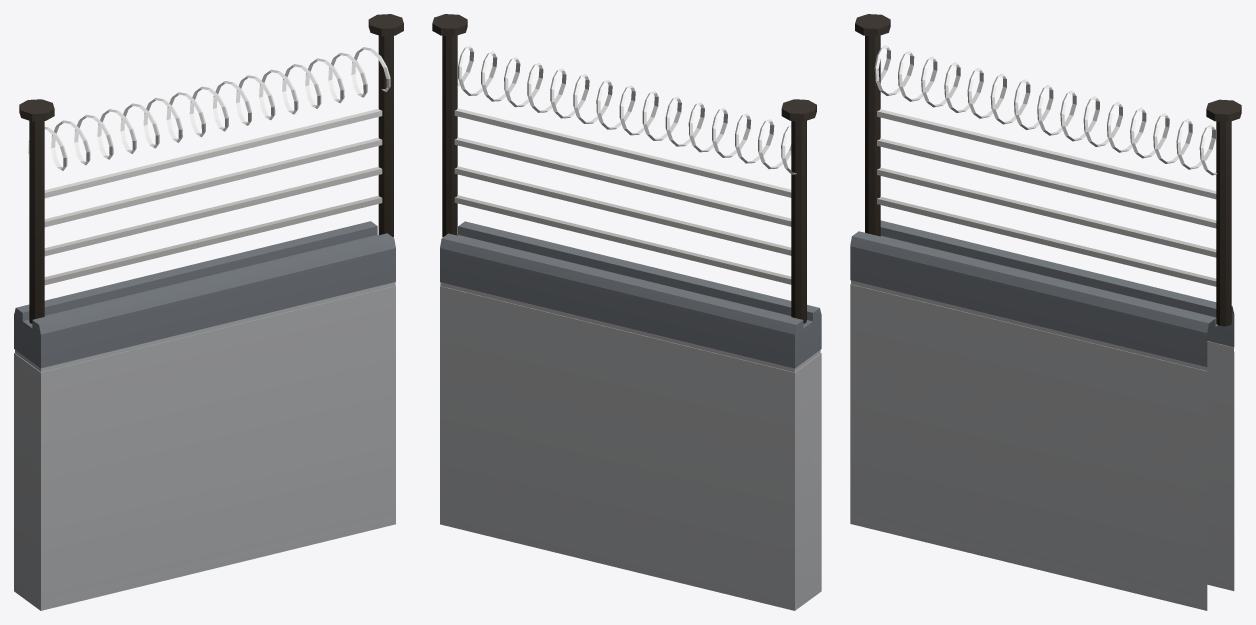
Rendered from muro7.fbx.
3 renders of one model, left to right at view 1: azimuth 30°, elevation 25°; view 2: azimuth 150°, elevation 25°; view 3: azimuth 330°, elevation 25°, orthographic.
Visible parts, largest first — view 1: centro5; view 2: centro5; view 3: centro5.
Boxes of the visible parts, x1=… form: centro5: x1=14, y1=14, x2=403, y2=610; centro5: x1=432, y1=14, x2=821, y2=610; centro5: x1=850, y1=14, x2=1241, y2=610.
Size of the model in its own units: 1782 by 2200 by 217.
